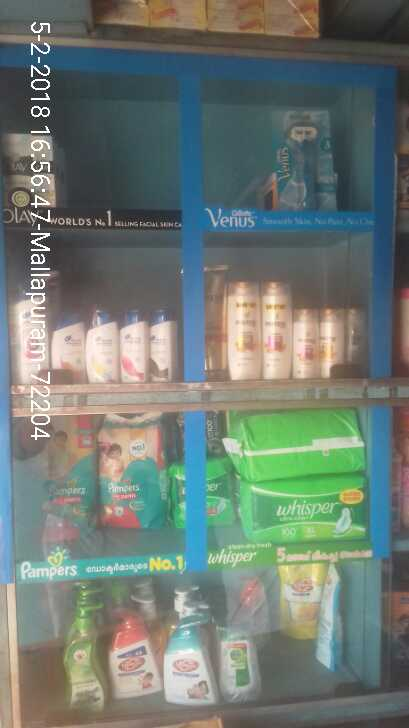venus: (276, 109, 334, 207)
